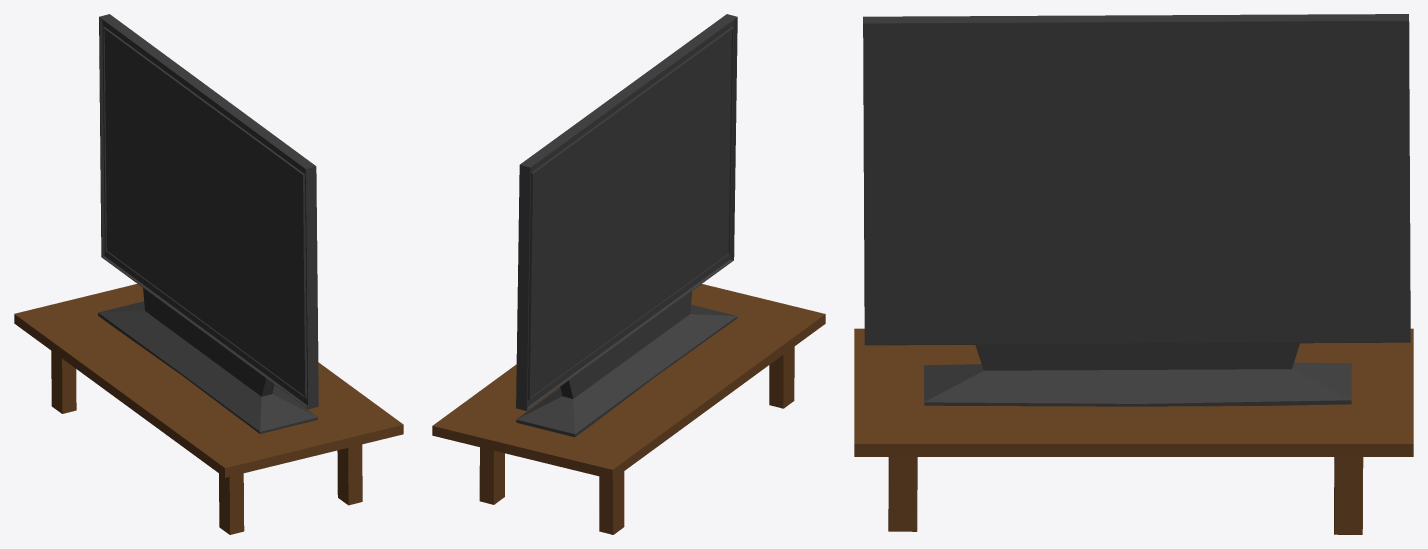
Rendered from televisor.dae.
The picture shows the model from 3 angles, left to right: view 1: azimuth 30°, elevation 25°; view 2: azimuth 150°, elevation 25°; view 3: azimuth 270°, elevation 25°; orthographic projection. The views are drawn at different scales.
Visible parts, largest first — view 1: tv; view 2: tv; view 3: tv.
Boxes of the visible parts, x1,y1,x2,y2 form: tv: (14, 14, 403, 534); tv: (432, 14, 825, 534); tv: (854, 14, 1413, 534).
Bounding box in the file's own units: 69.07 × 141 × 133.
